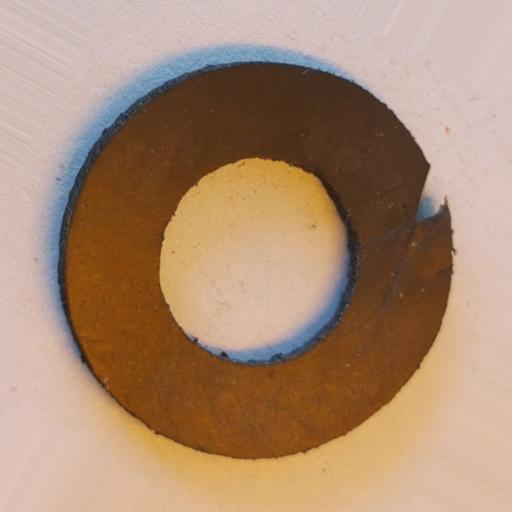defect: (410, 163, 452, 228)
